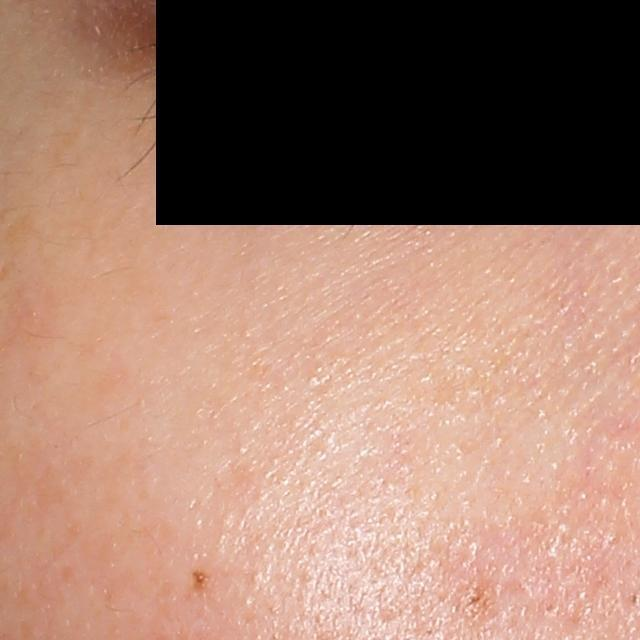nevus: (190, 566, 214, 596)
